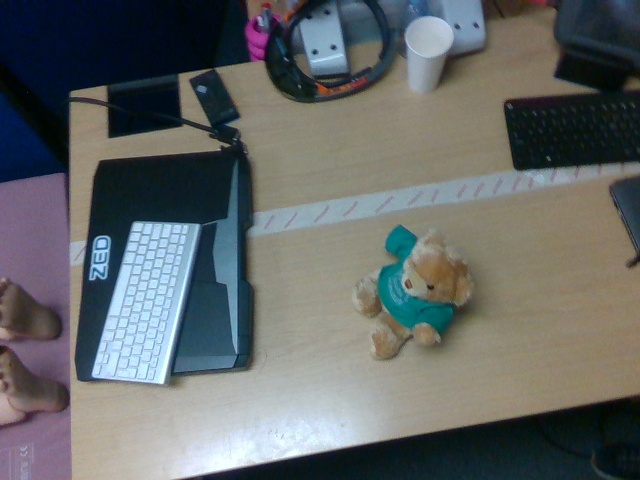teddy: (350, 225, 476, 362)
